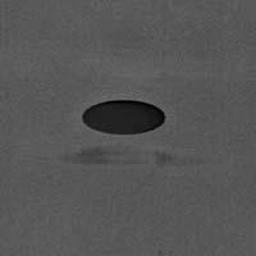Punching: (82, 100, 166, 134)
